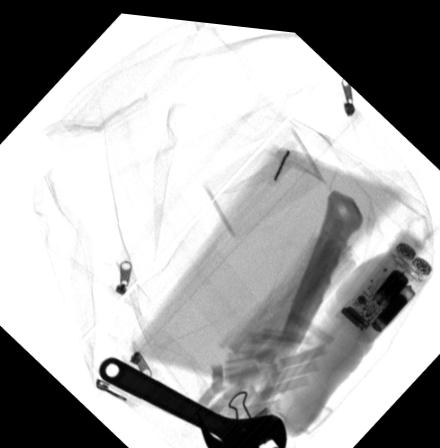Hammer: (197, 182, 363, 448)
Wrench: (96, 354, 288, 448)
